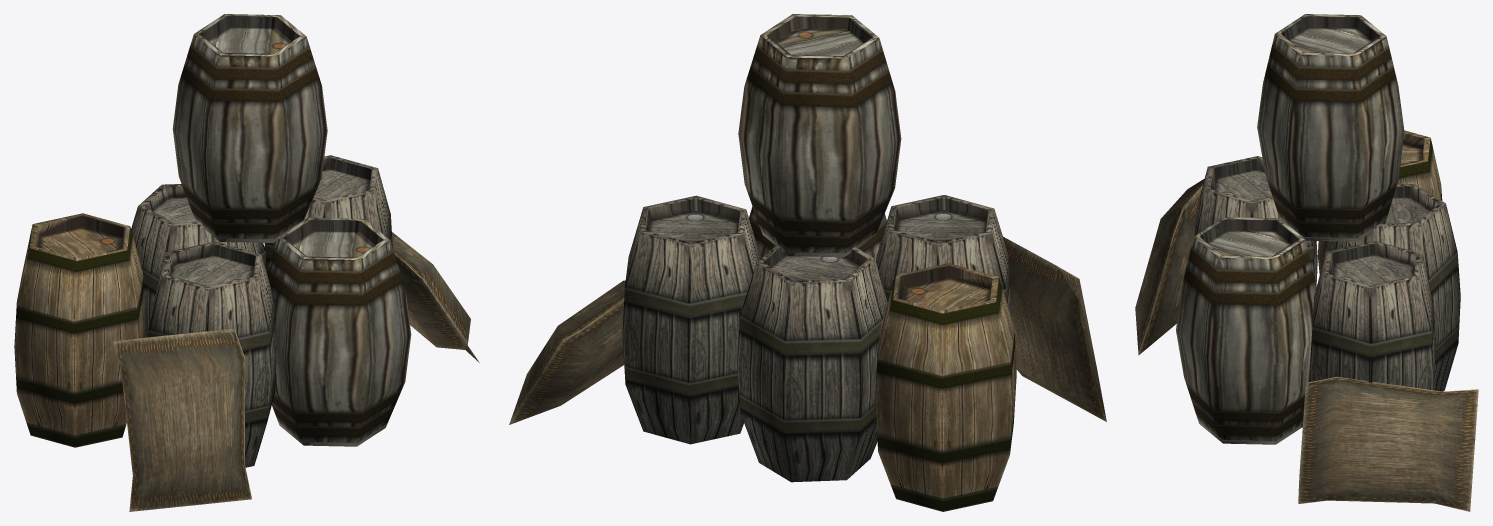
Rendered from prop_group_E.fbx.
3 renders of one model, left to right at view 1: azimuth 30°, elevation 25°; view 2: azimuth 150°, elevation 25°; view 3: azimuth 270°, elevation 25°, orthographic. The views are drawn at different scales.
Parts seen in each view (by area): view 1: barrel_high6, barrel_high3, barrel_high5, sack_high4, barrel_high, barrel_high2, sack_high, barrel_high1; view 2: barrel_high6, barrel_high5, barrel_high2, barrel_high1, sack_high4, barrel_high, sack_high, barrel_high3; view 3: barrel_high6, barrel_high3, sack_high, barrel_high1, barrel_high2, sack_high4, barrel_high, barrel_high5.
Boxes of the visible parts, x1=… form: barrel_high6: x1=172, y1=14, x2=327, y2=242; barrel_high3: x1=267, y1=217, x2=411, y2=446; barrel_high5: x1=14, y1=213, x2=145, y2=447; sack_high4: x1=113, y1=328, x2=251, y2=511; barrel_high: x1=148, y1=241, x2=276, y2=467; barrel_high2: x1=131, y1=184, x2=266, y2=337; sack_high: x1=392, y1=232, x2=479, y2=362; barrel_high1: x1=264, y1=155, x2=392, y2=271; barrel_high6: x1=738, y1=14, x2=901, y2=257; barrel_high5: x1=875, y1=263, x2=1016, y2=511; barrel_high2: x1=737, y1=244, x2=887, y2=482; barrel_high1: x1=622, y1=195, x2=761, y2=444; sack_high4: x1=1003, y1=236, x2=1106, y2=421; barrel_high: x1=876, y1=195, x2=1011, y2=316; sack_high: x1=509, y1=280, x2=625, y2=424; barrel_high3: x1=749, y1=206, x2=886, y2=260; barrel_high6: x1=1257, y1=14, x2=1404, y2=241; barrel_high3: x1=1176, y1=217, x2=1316, y2=444; sack_high: x1=1298, y1=377, x2=1478, y2=511; barrel_high1: x1=1309, y1=241, x2=1435, y2=390; barrel_high2: x1=1322, y1=184, x2=1460, y2=391; sack_high4: x1=1135, y1=163, x2=1224, y2=355; barrel_high: x1=1194, y1=156, x2=1317, y2=285; barrel_high5: x1=1317, y1=130, x2=1442, y2=274.
Bounding box in the file's own units: 1555 × 1278 × 1074.
Materials: 1 (1 with a texture image).
